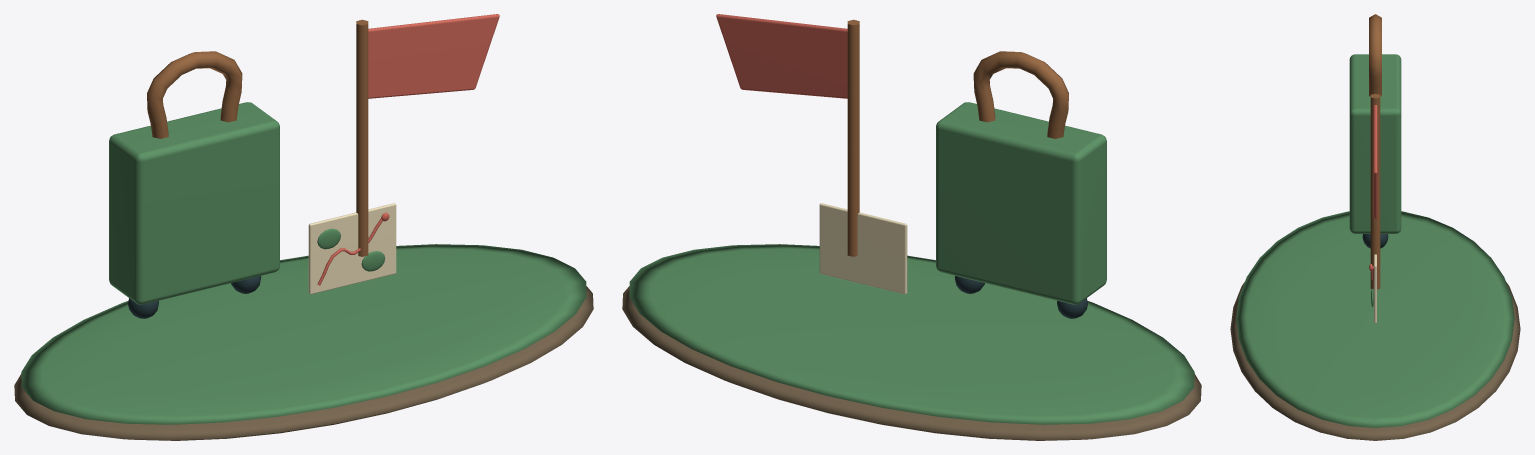
The model's file is tour-flag.glb.
3 views of the same model, side by side, from view 1: azimuth 30°, elevation 25°; view 2: azimuth 150°, elevation 25°; view 3: azimuth 270°, elevation 25° (orthographic). The views are drawn at different scales.
Visible parts, largest first — view 1: tour-flag_surface_01, tour-flag_surface_00, tour-flag_surface_04, tour-flag_surface_02, tour-flag_surface_05, tour-flag_surface_03; view 2: tour-flag_surface_01, tour-flag_surface_00, tour-flag_surface_04, tour-flag_surface_02, tour-flag_surface_05, tour-flag_surface_03; view 3: tour-flag_surface_01, tour-flag_surface_00, tour-flag_surface_02, tour-flag_surface_04.
Part boxes in pixels (x1=…): tour-flag_surface_01: x1=21, y1=102, x2=586, y2=424; tour-flag_surface_00: x1=14, y1=286, x2=593, y2=440; tour-flag_surface_04: x1=317, y1=14, x2=499, y2=285; tour-flag_surface_02: x1=147, y1=19, x2=368, y2=256; tour-flag_surface_05: x1=308, y1=203, x2=396, y2=294; tour-flag_surface_03: x1=128, y1=276, x2=261, y2=318; tour-flag_surface_01: x1=629, y1=102, x2=1194, y2=424; tour-flag_surface_00: x1=622, y1=286, x2=1201, y2=440; tour-flag_surface_04: x1=716, y1=14, x2=847, y2=98; tour-flag_surface_02: x1=847, y1=19, x2=1068, y2=256; tour-flag_surface_05: x1=819, y1=203, x2=907, y2=294; tour-flag_surface_03: x1=954, y1=276, x2=1087, y2=318; tour-flag_surface_01: x1=1236, y1=54, x2=1514, y2=427; tour-flag_surface_00: x1=1230, y1=282, x2=1520, y2=440; tour-flag_surface_02: x1=1369, y1=14, x2=1381, y2=289; tour-flag_surface_04: x1=1369, y1=105, x2=1377, y2=279.
Bounding box in the file's own units: 4.56 × 2.66 × 2.5.
